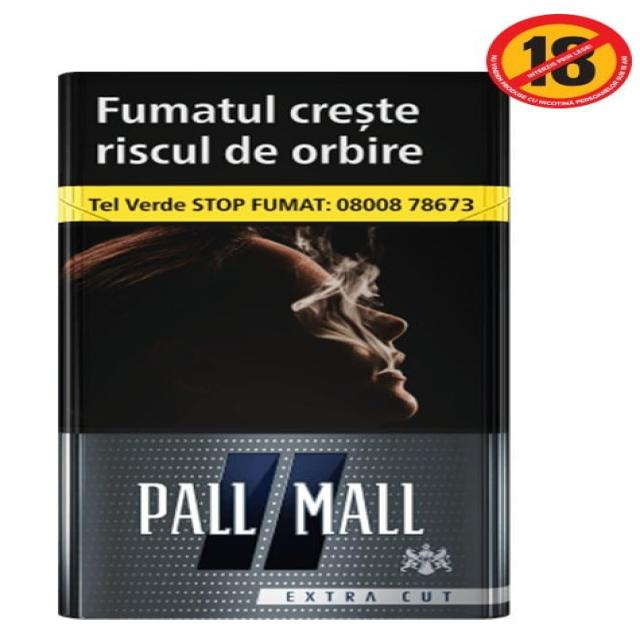pallmall: (54, 61, 516, 623)
